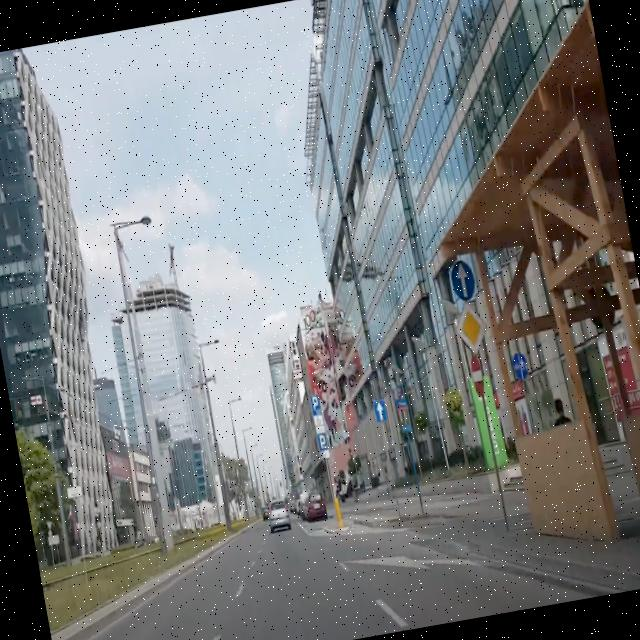Droga z pierwszenstwem: (451, 298, 491, 357)
Zakaz wjazdu: (468, 353, 487, 397)
